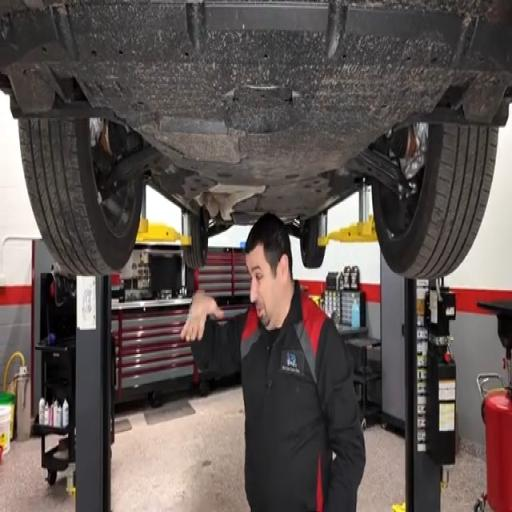tire: (372, 124, 498, 278), (19, 120, 143, 275), (184, 208, 209, 268), (300, 217, 325, 268)
wheel: (372, 124, 498, 278), (20, 119, 143, 275), (184, 208, 209, 268)
